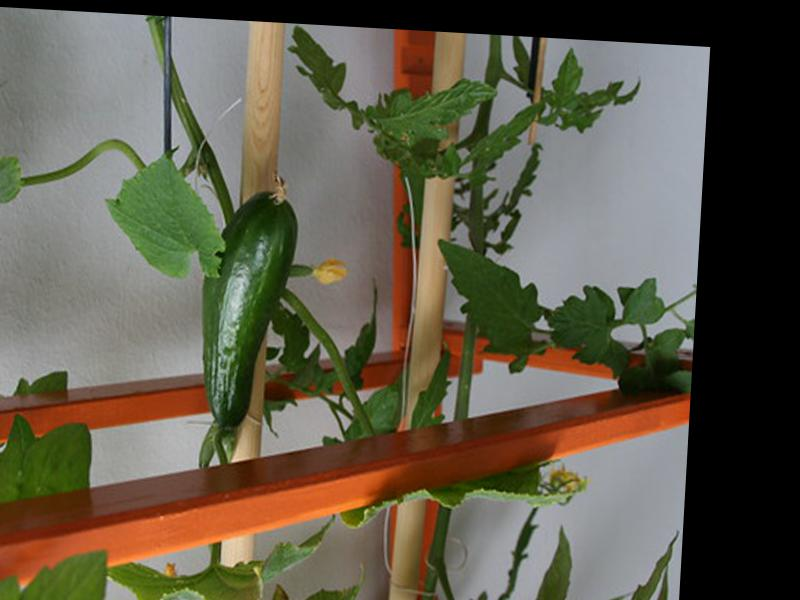Cucumber: (196, 171, 300, 430)
